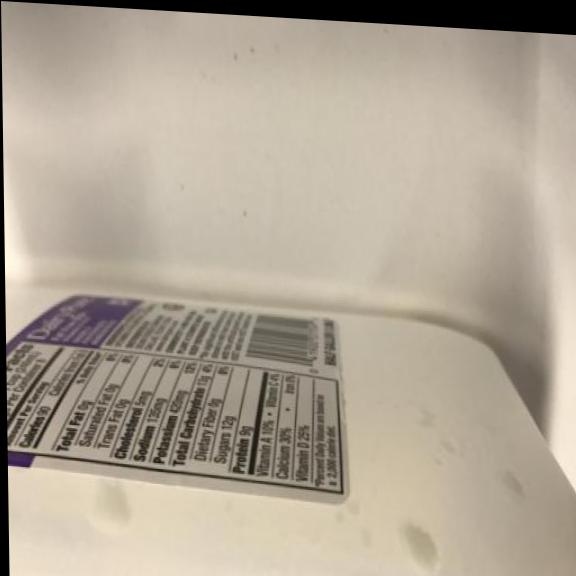Plastik: (4, 263, 576, 576)
